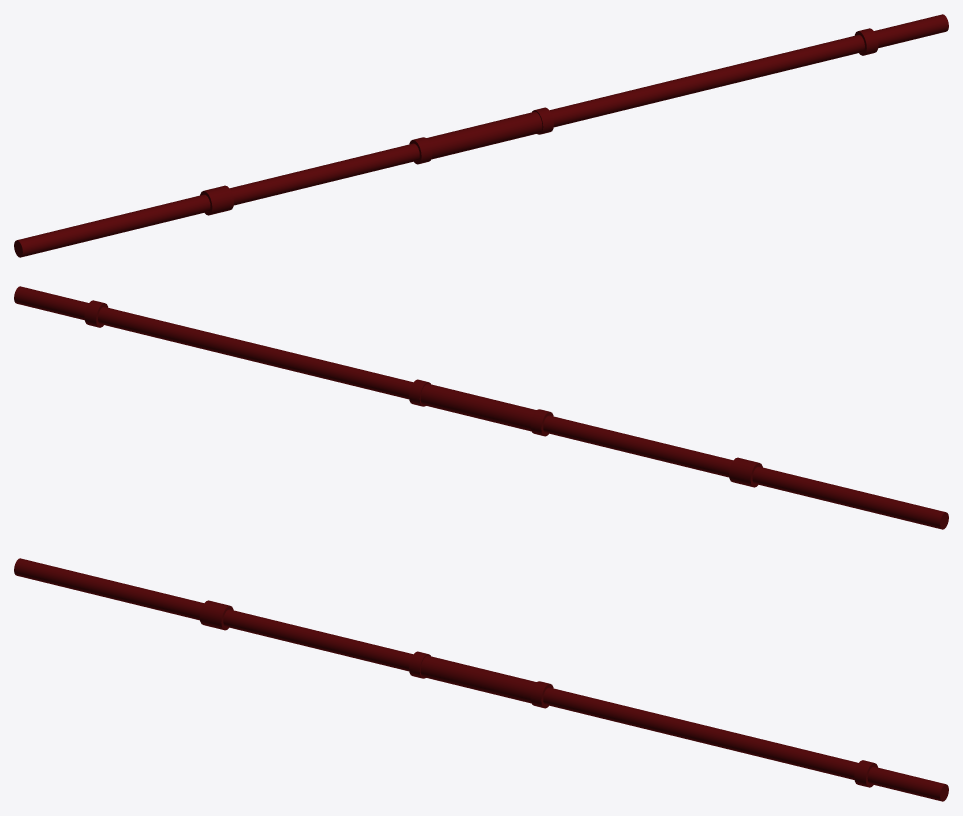
The model's file is Pipe Bumpy Long.fbx.
The picture shows the model from 3 angles, top to bottom: view 1: azimuth 30°, elevation 25°; view 2: azimuth 150°, elevation 25°; view 3: azimuth 330°, elevation 25°; orthographic projection.
Parts seen in each view (by area): view 1: Pipe Bumpy Long; view 2: Pipe Bumpy Long; view 3: Pipe Bumpy Long.
Part boxes in pixels (x1,y1,x2,y2): Pipe Bumpy Long: [14, 14, 948, 257]; Pipe Bumpy Long: [14, 286, 948, 529]; Pipe Bumpy Long: [14, 558, 948, 801].
Size of the model in its own units: 24.84 by 0.5886 by 0.5886.
